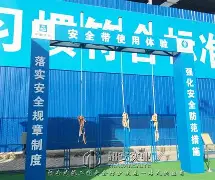safety belt: (149, 114, 165, 145), (75, 113, 89, 147), (118, 112, 134, 135)
